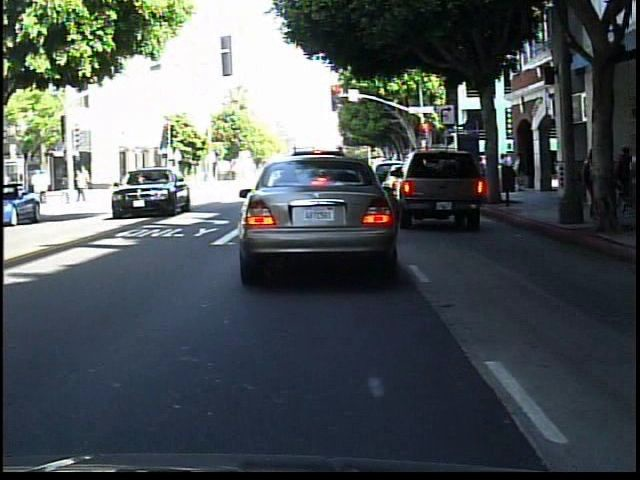person: (578, 144, 603, 225), (614, 141, 639, 218), (616, 141, 638, 212), (75, 163, 94, 206), (76, 162, 93, 197), (59, 172, 72, 206)
